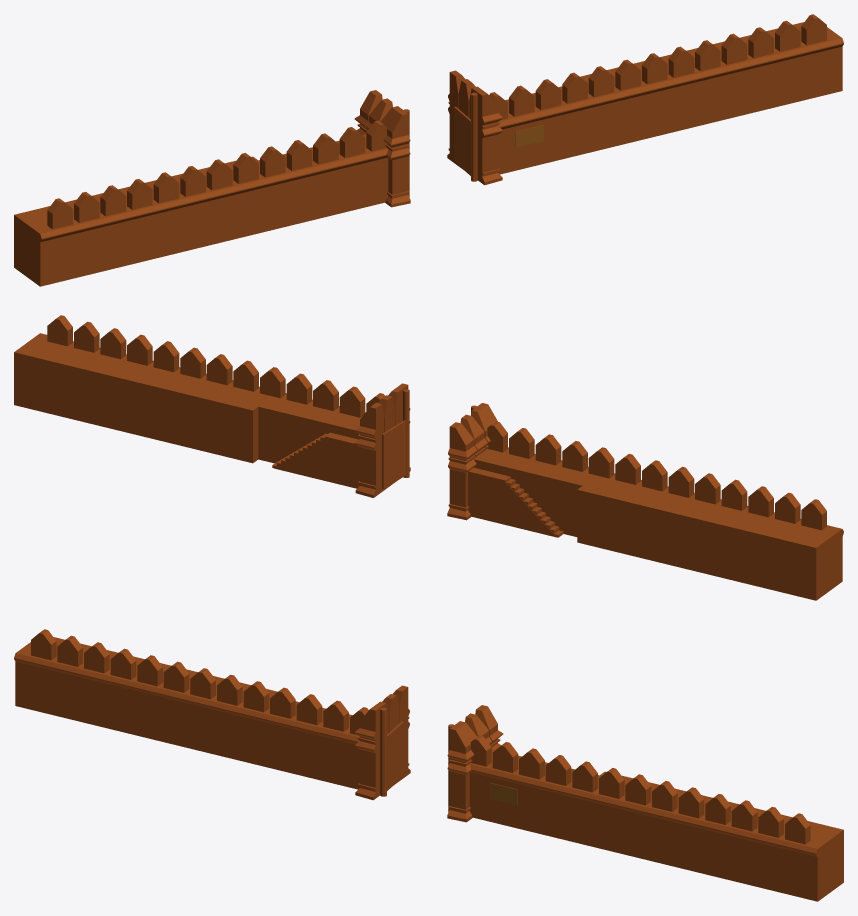
Rendered from Wall1.fbx.
The picture shows the model from 3 angles, top to bottom: view 1: azimuth 30°, elevation 25°; view 2: azimuth 150°, elevation 25°; view 3: azimuth 330°, elevation 25°; orthographic projection.
Parts seen in each view (by area): view 1: Thaphaegate; view 2: Thaphaegate; view 3: Thaphaegate.
Part boxes in pixels (x1=…): Thaphaegate: x1=14, y1=14, x2=843, y2=286; Thaphaegate: x1=14, y1=315, x2=843, y2=600; Thaphaegate: x1=14, y1=629, x2=843, y2=901.
Size of the model in its own units: 7033 by 736 by 566.
